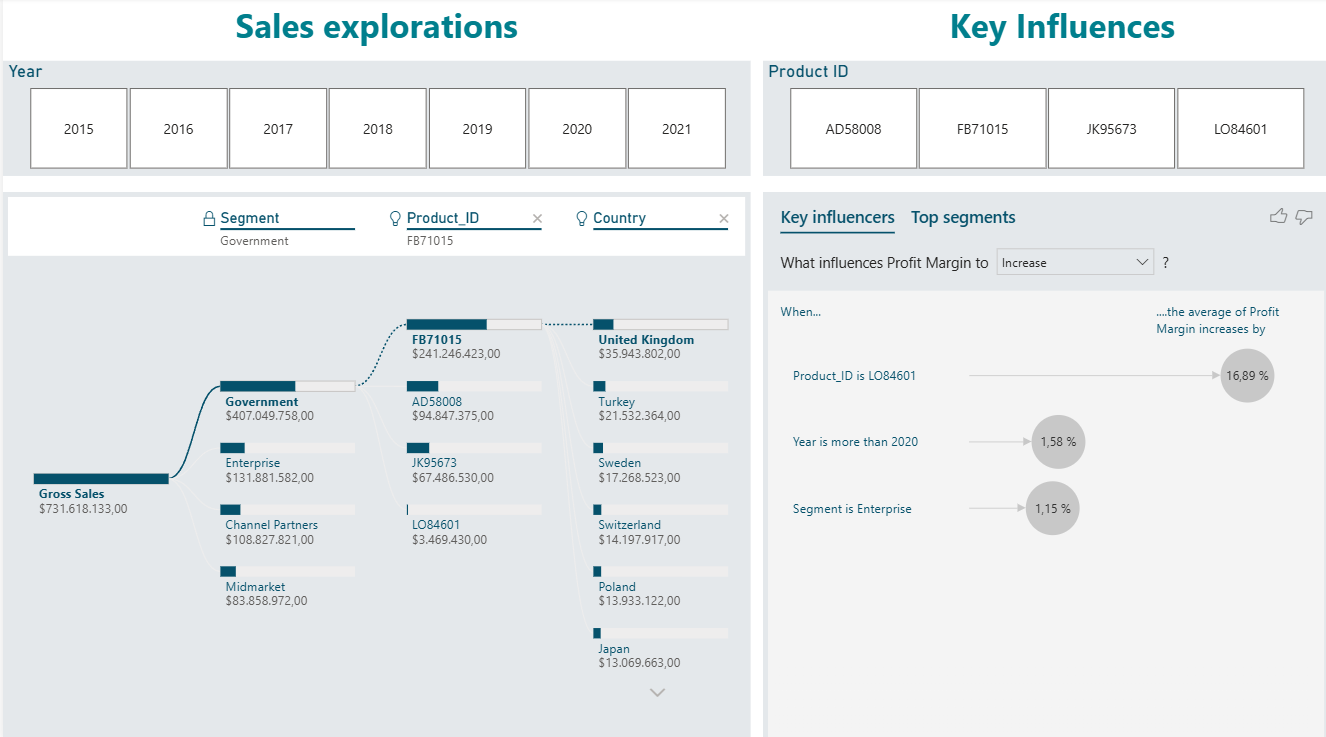

This screenshot's page, from the dashboard's own definition file:
{"tool":"powerbi","page":{"name":"Sales exploration","canvas":[1280,720],"ordinal":2},"visuals":[{"type":"decompositionTreeVisual","fields":{"Analyze":["Sum(Sales_Fact.Gross Sales)"],"ExplainBy":["Customer_Dim.Segment","Sales_Fact.Product_ID","Customer_Dim.Country"]},"box":[0,188.3,721.5,531.9],"z":0},{"type":"slicer","title":"Year","fields":{"Values":["Dates.Date.Variation.Date Hierarchy.Year"]},"box":[0,61.1,721.5,111.3],"z":1000},{"type":"keyDriversVisual","fields":{"Target":["Measures_calculates.Profit Margin"],"ExplainBy":["Sales_Fact.Product_ID","Customer_Dim.Segment","Dates.Date.Variation.Date Hierarchy.Year","Dates.Date.Variation.Date Hierarchy.Quarter","Dates.Date.Variation.Date Hierarchy.Month","Dates.Date.Variation.Date Hierarchy.Day"]},"box":[733.7,188.3,546.6,531.9],"z":2000},{"type":"slicer","title":"Product ID","fields":{"Values":["Sales_Fact.Product_ID"]},"box":[733.7,61.1,546.6,111.3],"z":3000},{"type":"textbox","box":[0,0,721.5,62.4],"z":4000},{"type":"textbox","box":[848.6,0,348.5,62.4],"z":5000}]}

Visuals, with their boxes in screenshot pixels (x1, y1, x2, y2), scaled from the page's 1280x720 canvas onto the 1326x737 screenshot:
decompositionTreeVisual - Sum(Sales_Fact.Gross Sales) x Customer_Dim.Segment: <region>0, 193, 747, 736</region>
"Year" slicer: <region>0, 63, 747, 176</region>
keyDriversVisual - Measures_calculates.Profit Margin x Sales_Fact.Product_ID: <region>760, 193, 1325, 736</region>
"Product ID" slicer: <region>760, 63, 1325, 176</region>
textbox: <region>0, 0, 747, 64</region>
textbox: <region>879, 0, 1240, 64</region>
